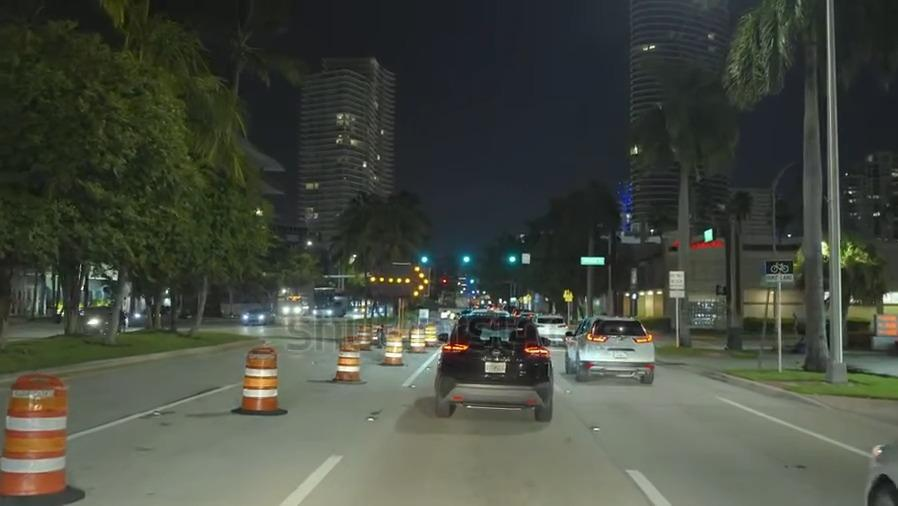arrow traffic sign: (363, 263, 431, 301)
bus: (309, 287, 350, 320), (283, 292, 309, 319)
car: (439, 314, 552, 418), (572, 312, 652, 383), (861, 434, 898, 506), (63, 303, 127, 335), (532, 311, 567, 343), (136, 302, 174, 327), (240, 306, 275, 325)
cone: (6, 371, 66, 493), (239, 344, 279, 414), (337, 333, 361, 384), (383, 328, 403, 369), (357, 322, 372, 350), (407, 326, 423, 351), (425, 324, 435, 346)
traffic light: (502, 247, 522, 272), (457, 249, 479, 270), (413, 251, 433, 267)
